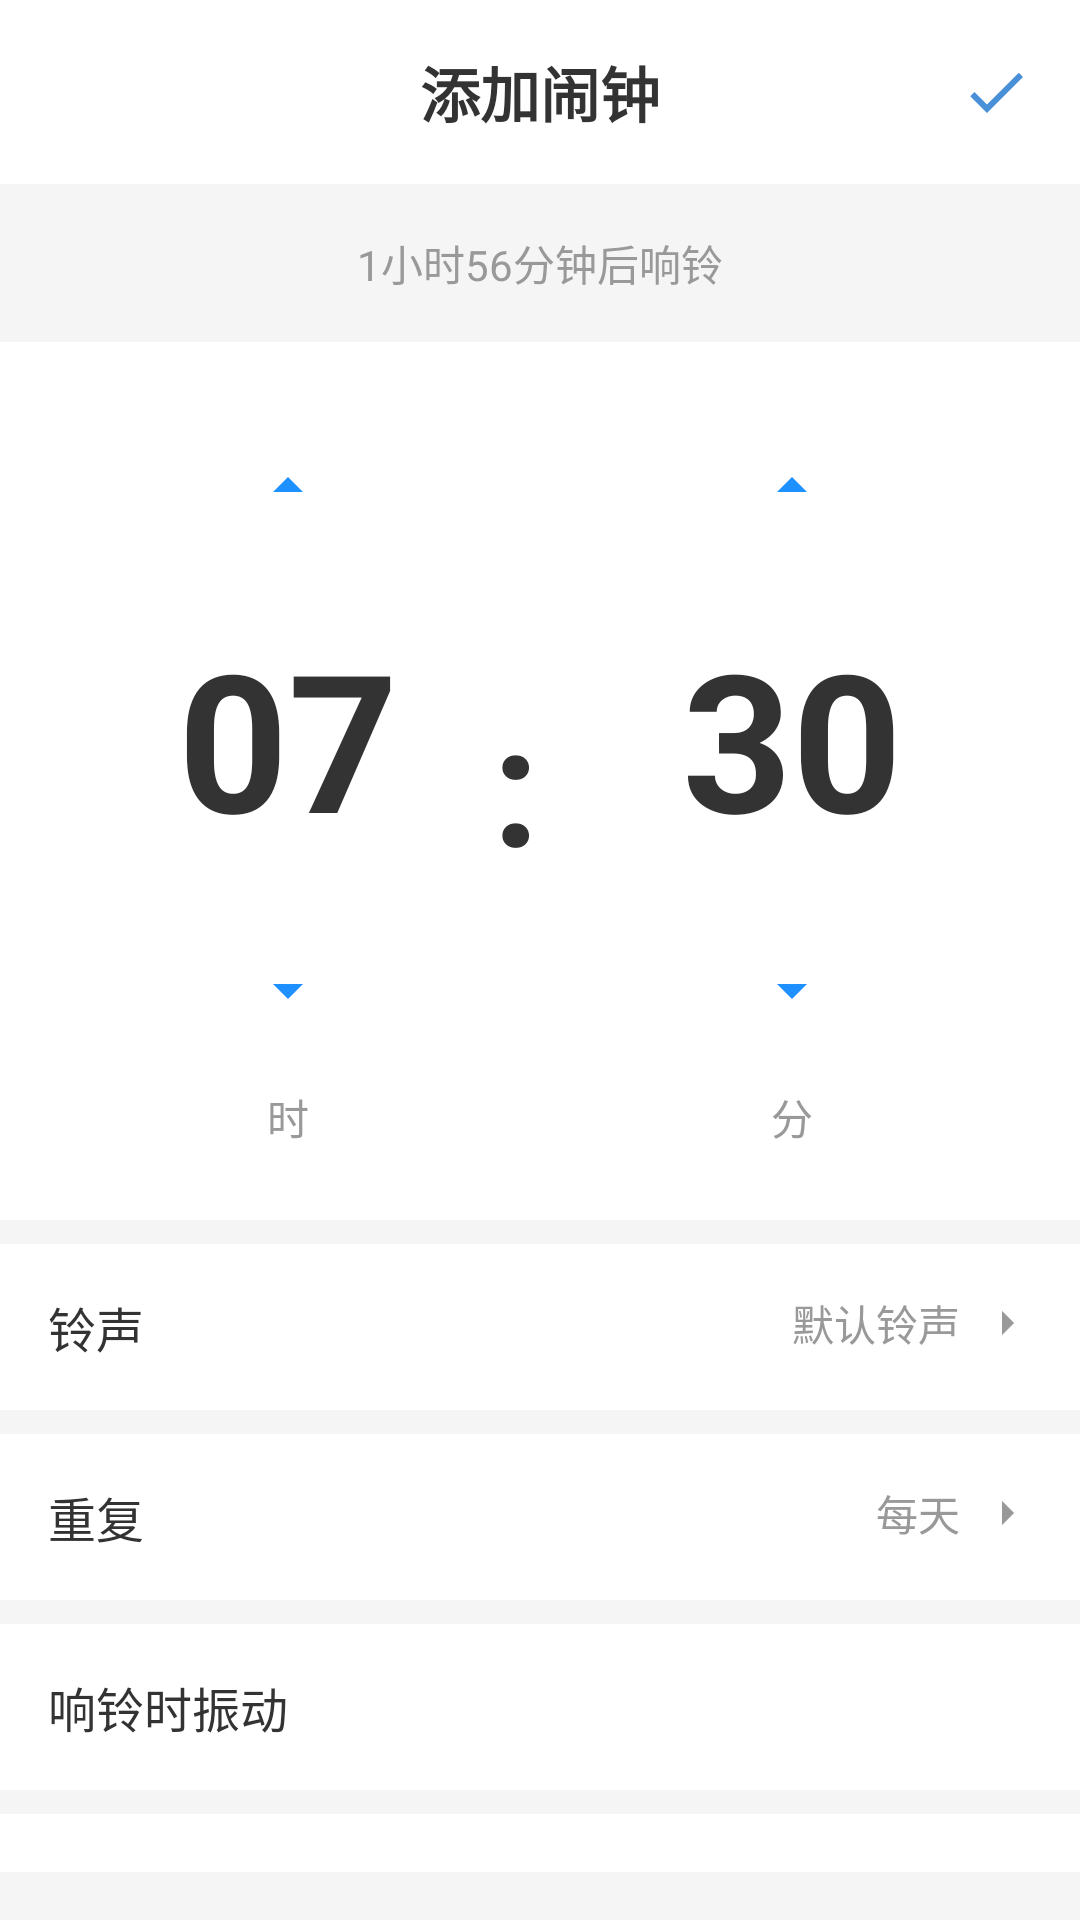

Named icons in this screenshot (1080px x 1920px) and their centers, (x,y):
arrow down: (288,991), (792,991)
arrow right: (1008,1323), (1008,1513)
arrow up: (288,484), (792,484)
check: (996,93)
